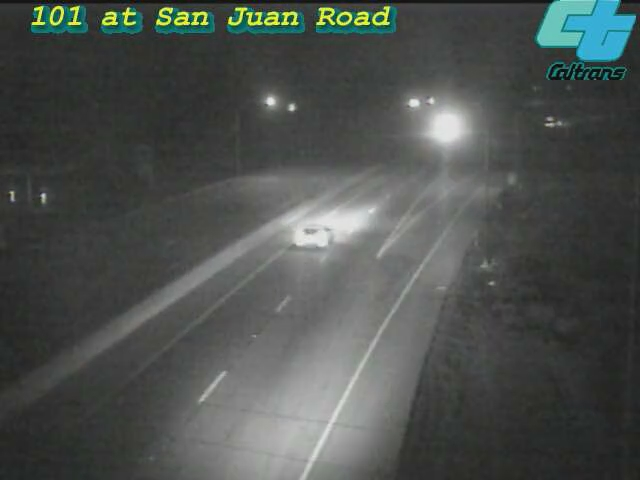vehicle: (271, 195, 351, 275), (418, 104, 468, 154), (531, 96, 581, 146)
